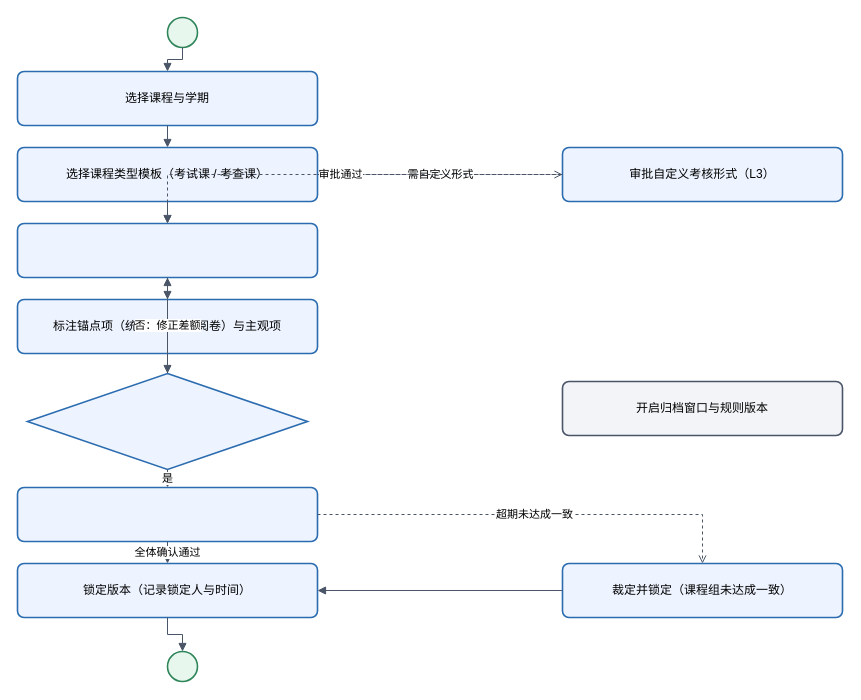
This 861x700 diagram has some shape labels left out. The shapes that lost their labels are listed below. From the top down, each one's centre as x and y in pixels, then its label:
the point at 167,250: 调整评分项、权重、满分与记分形态
the point at 167,421: 同一层级权重和 = 100%？
the point at 167,514: 课程组全体确认
